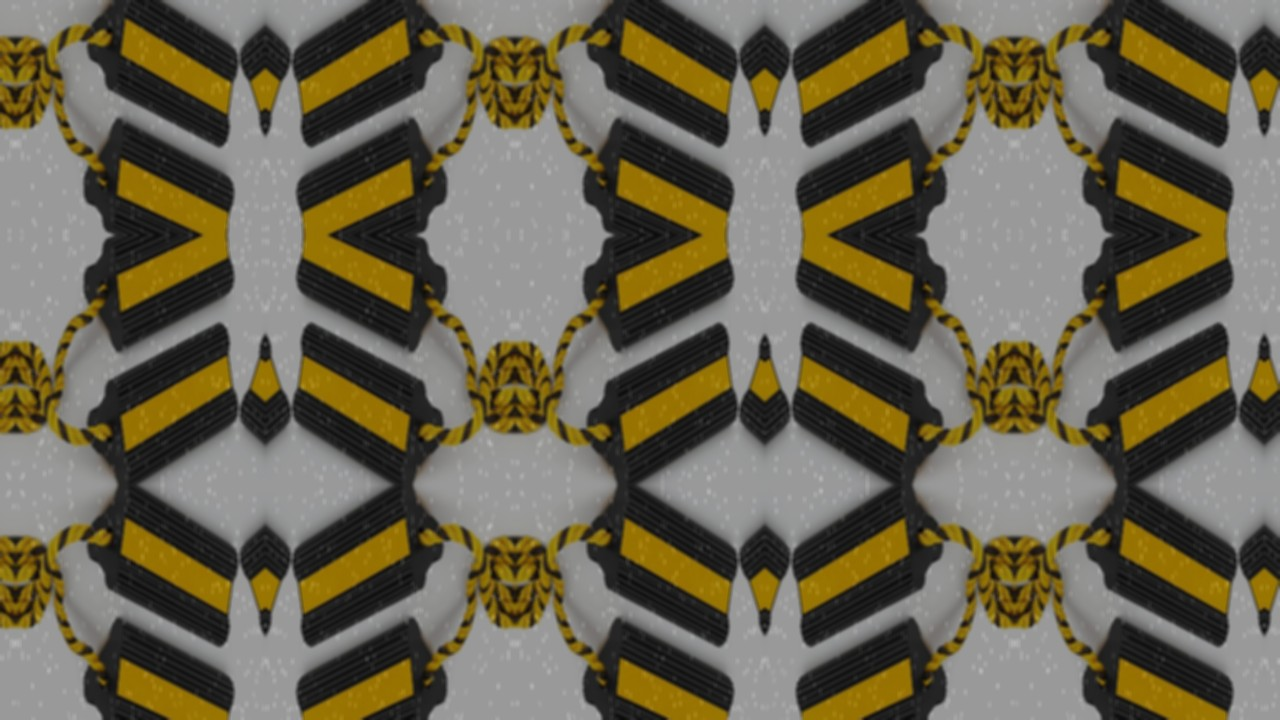chock: (80, 310, 246, 485), (284, 310, 450, 485), (580, 310, 746, 485), (784, 310, 950, 485), (1080, 310, 1246, 485), (80, 485, 246, 660), (284, 485, 450, 660), (580, 485, 746, 660), (784, 485, 950, 660), (1080, 485, 1246, 660), (80, 0, 246, 160), (284, 0, 450, 160), (580, 0, 746, 160), (784, 0, 950, 160), (1080, 0, 1246, 160), (75, 109, 242, 235), (288, 109, 455, 235), (575, 109, 742, 235), (788, 109, 955, 235), (1075, 109, 1242, 235), (75, 235, 242, 361), (288, 235, 455, 361), (575, 235, 742, 361), (788, 235, 955, 361), (1075, 235, 1242, 361), (75, 609, 242, 720), (288, 609, 455, 720), (575, 609, 742, 720), (788, 609, 955, 720), (1075, 609, 1242, 720)
